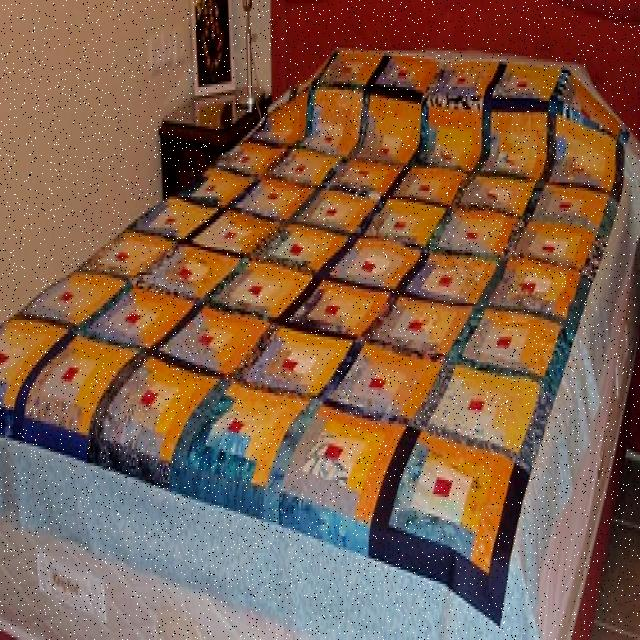bed: (0, 55, 637, 640)
